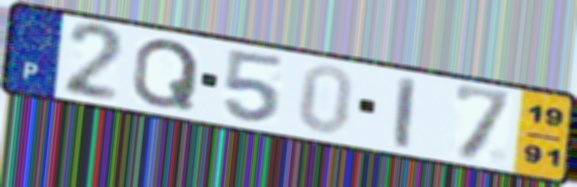0: (295, 62, 359, 138)
2: (59, 19, 127, 105)
5: (222, 48, 288, 126)
7: (452, 80, 518, 165)
I: (393, 73, 419, 152)
Q: (128, 37, 202, 112)
